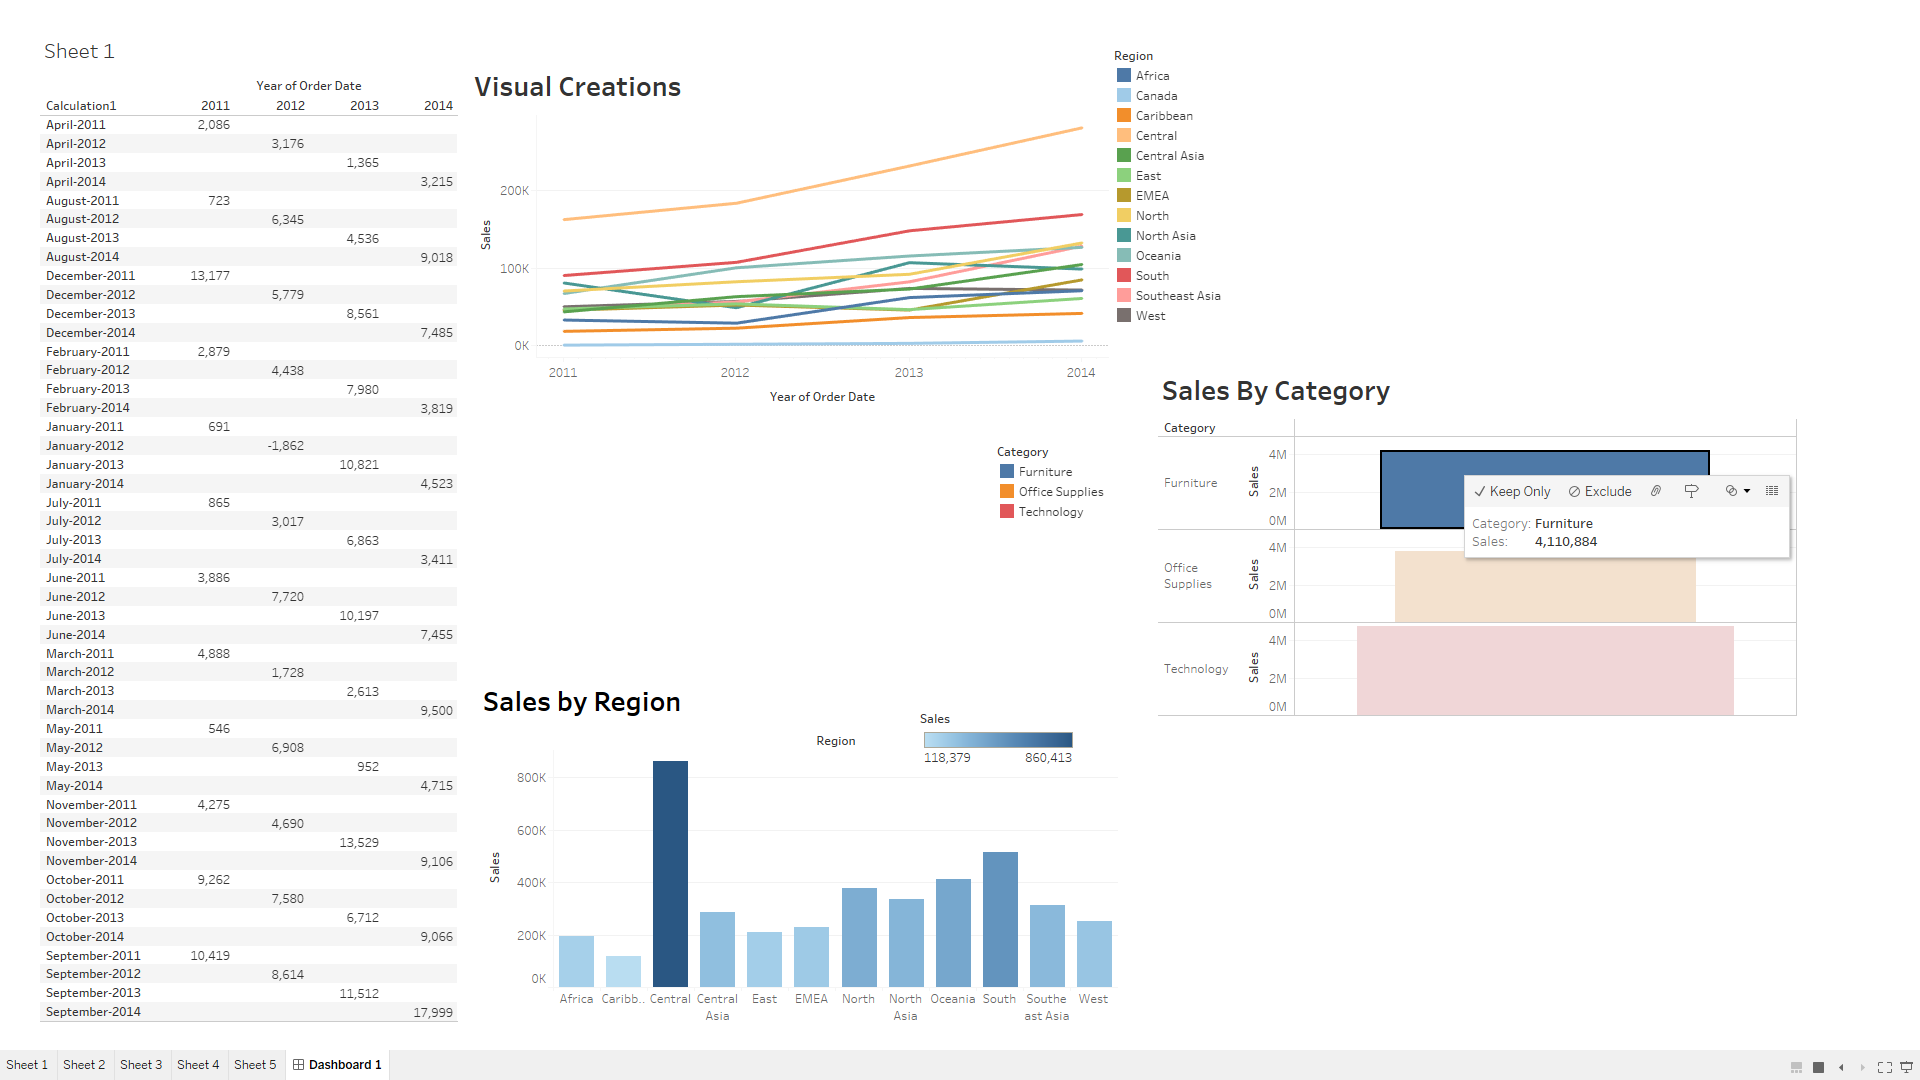

The dashboard page shown, as its layout file describes it:
{"tool":"tableau","page":{"name":"Dashboard 1","canvas":[1000,1000],"units":"permille","ordinal":0},"visuals":[{"type":"worksheet","title":"Sheet 1","mark":"Automatic","rows":["Calculation_905786481205129219"],"cols":["order_date"],"box":[21.1,30.7,217.7,942.8]},{"type":"legend","title":"Sheet 2","param":"[federated.0dmps8w06c5hgv148y3nc1tnxcud].[none:region:nk]","box":[580.5,44.5,81.9,294.5]},{"type":"worksheet","title":"Sheet 2","mark":"Automatic","rows":["sales"],"cols":["order_date"],"box":[244.6,60.4,332.9,332.6]},{"type":"worksheet","title":"Sheet 4","mark":"Automatic","rows":["category","sales"],"box":[603.3,349.6,332.9,332.6]},{"type":"legend","title":"Sheet 4","param":"[federated.0dmps8w06c5hgv148y3nc1tnxcud].[none:category:nk]","box":[519,421.6,81.9,82.6]},{"type":"worksheet","title":"Sheet 3","mark":"Automatic","rows":["sales"],"cols":["region"],"box":[249.3,646.2,332.9,332.6]},{"type":"legend","title":"Sheet 3","param":"[federated.0dmps8w06c5hgv148y3nc1tnxcud].[sum:sales:qk]","box":[479.2,675.9,81.9,80.5]}]}

Visuals, with their boxes on the dashboard's canvas, which has no fixed pixel size, in thousandths of its width and height (x1, y1, x2, y2). These are canvas units, not pixel positions in the 1920x1080 screenshot, which may show the page scaled, cropped or inside an application window:
"Sheet 1" worksheet: x1=21, y1=31, x2=239, y2=974
"Sheet 2" legend: x1=580, y1=44, x2=662, y2=339
"Sheet 2" worksheet: x1=245, y1=60, x2=578, y2=393
"Sheet 4" worksheet: x1=603, y1=350, x2=936, y2=682
"Sheet 4" legend: x1=519, y1=422, x2=601, y2=504
"Sheet 3" worksheet: x1=249, y1=646, x2=582, y2=979
"Sheet 3" legend: x1=479, y1=676, x2=561, y2=756
